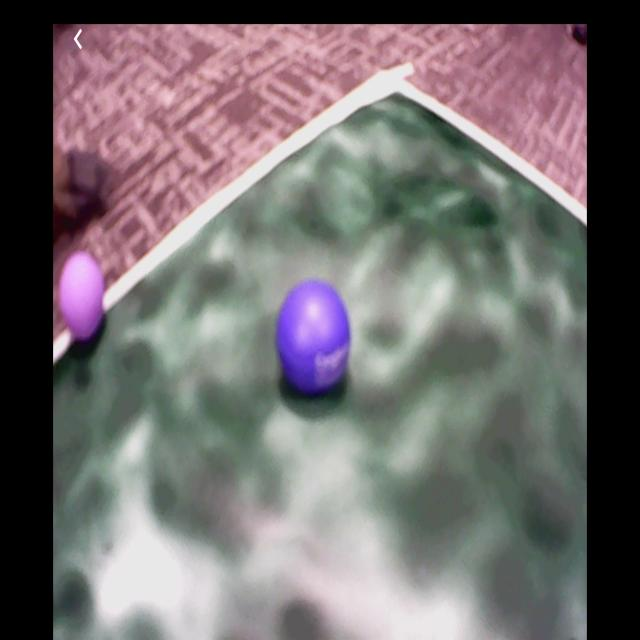ball: (274, 280, 350, 396), (59, 252, 107, 336)
